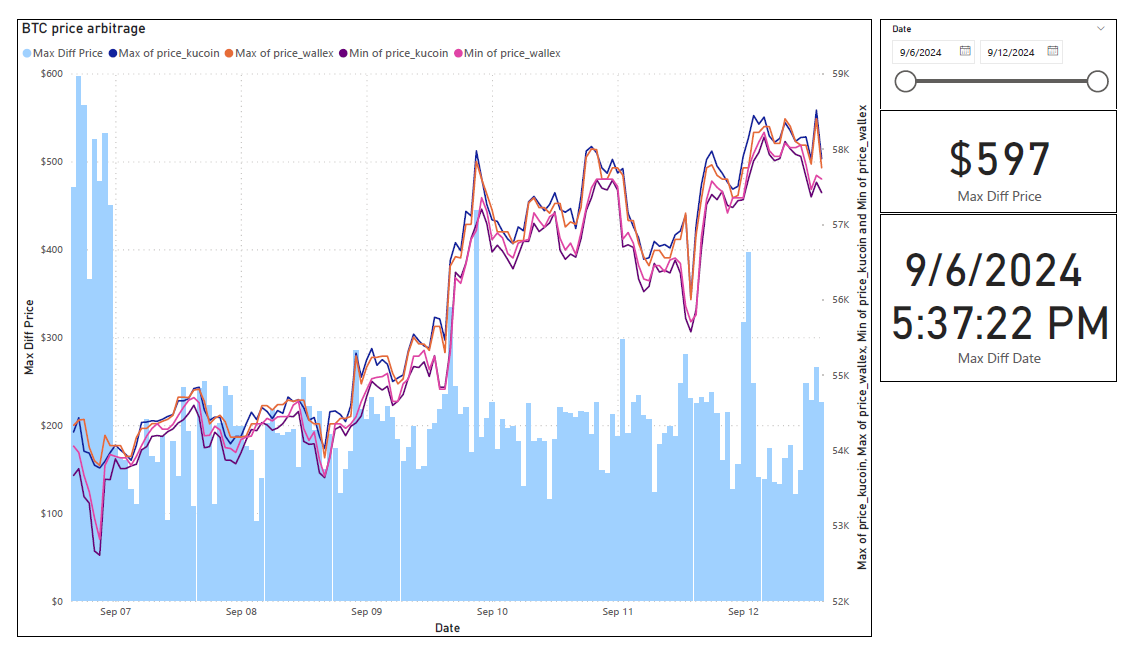

Layout of this report page (visuals, bound fields, positions):
{"tool":"powerbi","page":{"name":"btc_arbitrage","canvas":[1280,720],"ordinal":1},"visuals":[{"type":"slicer","fields":{"Values":["Sheet1.HourTime"]},"box":[1005,0,275,105.9],"z":0},{"type":"card","fields":{"Values":["Sheet1.Max difference price"]},"box":[1005,105.9,275,120.5],"z":1000},{"type":"card","fields":{"Values":["Sheet1.Max Diff Date"]},"box":[1005,227.4,275,195.4],"z":2000},{"type":"lineClusteredColumnComboChart","title":"BTC price arbitrage","fields":{"Y2":["Max(Sheet1.price_kucoin)","Max(Sheet1.price_wallex)","Min(Sheet1.price_kucoin)","Min(Sheet1.price_wallex)"],"Category":["Sheet1.Date"],"Y":["Sheet1.Max Diff Price"]},"box":[0,0,995.2,720.2],"z":3000}]}

Visuals, with their boxes in screenshot pixels (x1, y1, x2, y2), scaled from the page's 1280x720 canvas onto the 1130x655 screenshot:
slicer - Sheet1.HourTime: x1=887 y1=0 x2=1129 y2=96
card - Sheet1.Max difference price: x1=887 y1=96 x2=1129 y2=206
card - Sheet1.Max Diff Date: x1=887 y1=207 x2=1129 y2=385
"BTC price arbitrage" lineClusteredColumnComboChart: x1=0 y1=0 x2=879 y2=654
